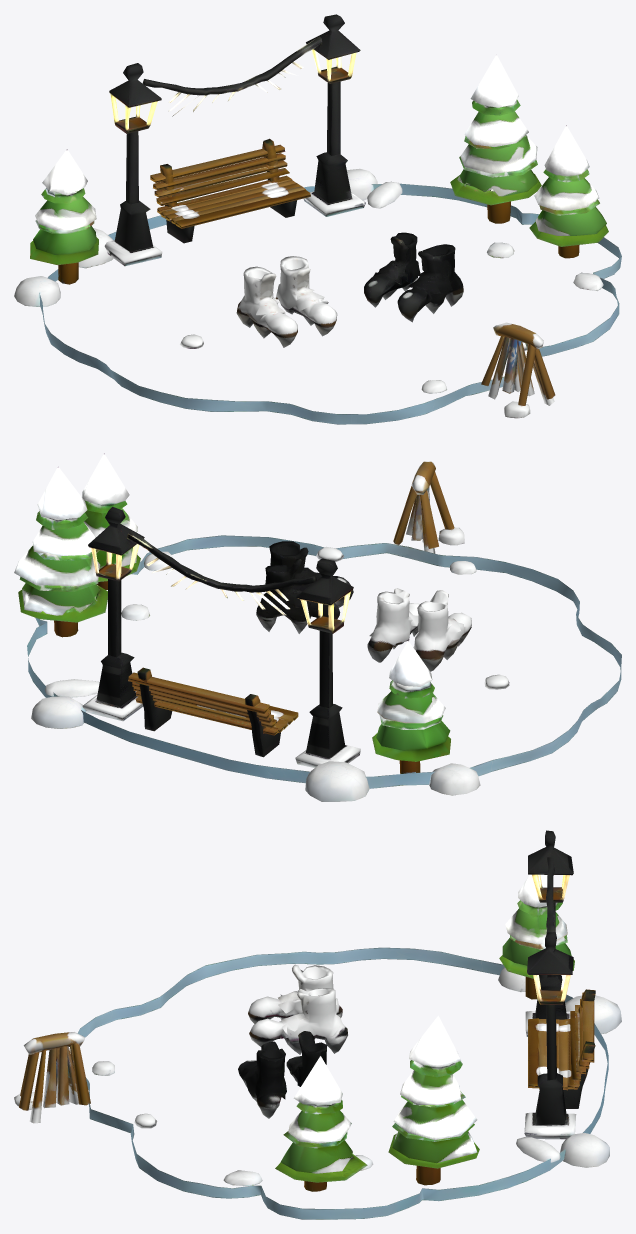
File: konki.glb
The picture shows the model from 3 angles, top to bottom: view 1: azimuth 30°, elevation 25°; view 2: azimuth 150°, elevation 25°; view 3: azimuth 270°, elevation 25°; orthographic projection. The views are drawn at different scales.
Visible parts, largest first — view 1: mesh_node; view 2: mesh_node; view 3: mesh_node.
Boxes of the visible parts, x1,y1,x2,y2 form: mesh_node: (14,14,621,424); mesh_node: (14,453,621,801); mesh_node: (14,830,621,1219).
Size of the model in its own units: 1 by 0.3662 by 0.9863.
Materials: 1 (1 with a texture image).
